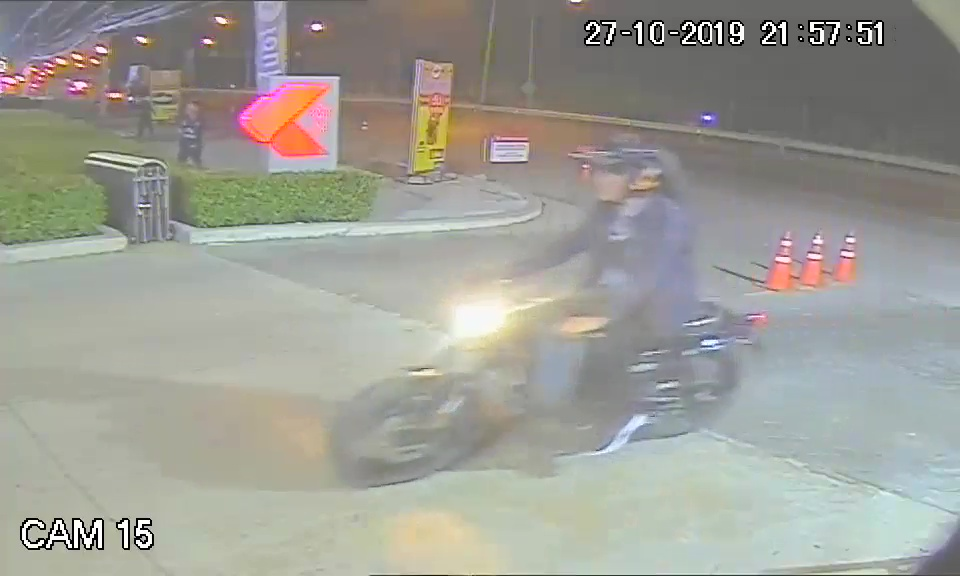motorcycle: (321, 279, 769, 486)
